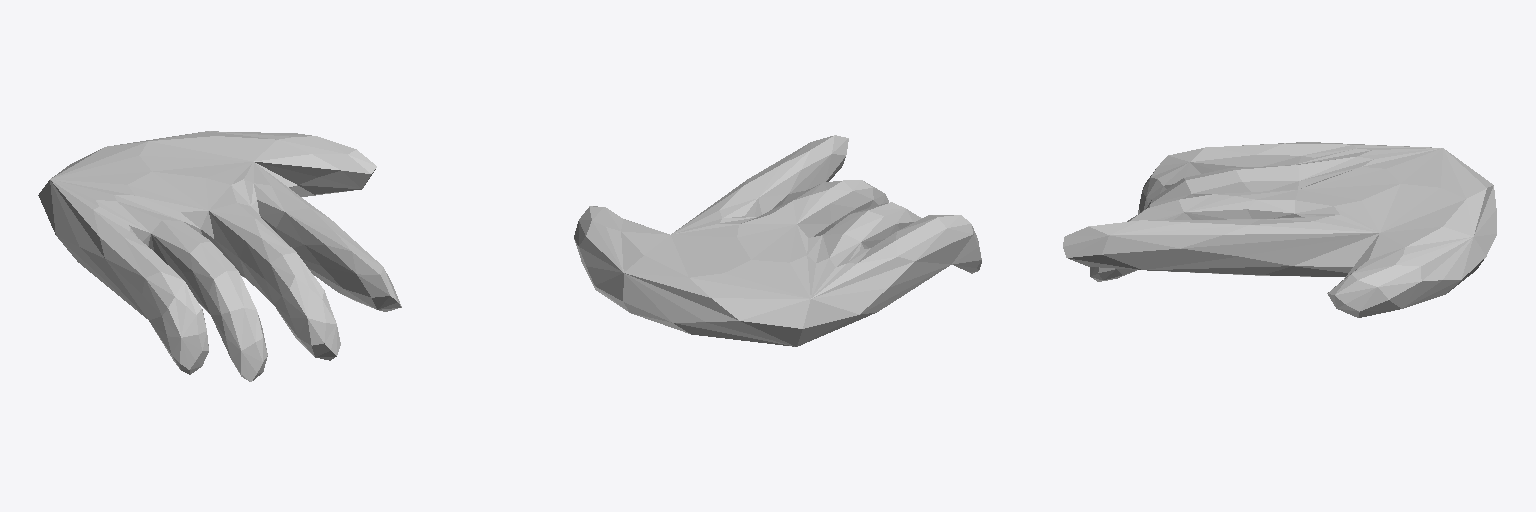
Rendered from Hand2.obj.
3 views of the same model, side by side, from view 1: azimuth 30°, elevation 25°; view 2: azimuth 150°, elevation 25°; view 3: azimuth 270°, elevation 25° (orthographic).
Visible parts, largest first — view 1: Hand2; view 2: Hand2; view 3: Hand2.
Boxes of the visible parts, x1,y1,x2,y2 form: Hand2: [38, 131, 401, 381]; Hand2: [574, 135, 981, 346]; Hand2: [1063, 142, 1496, 317].
Bounding box in the file's own units: 2.78 × 0.9023 × 3.49.